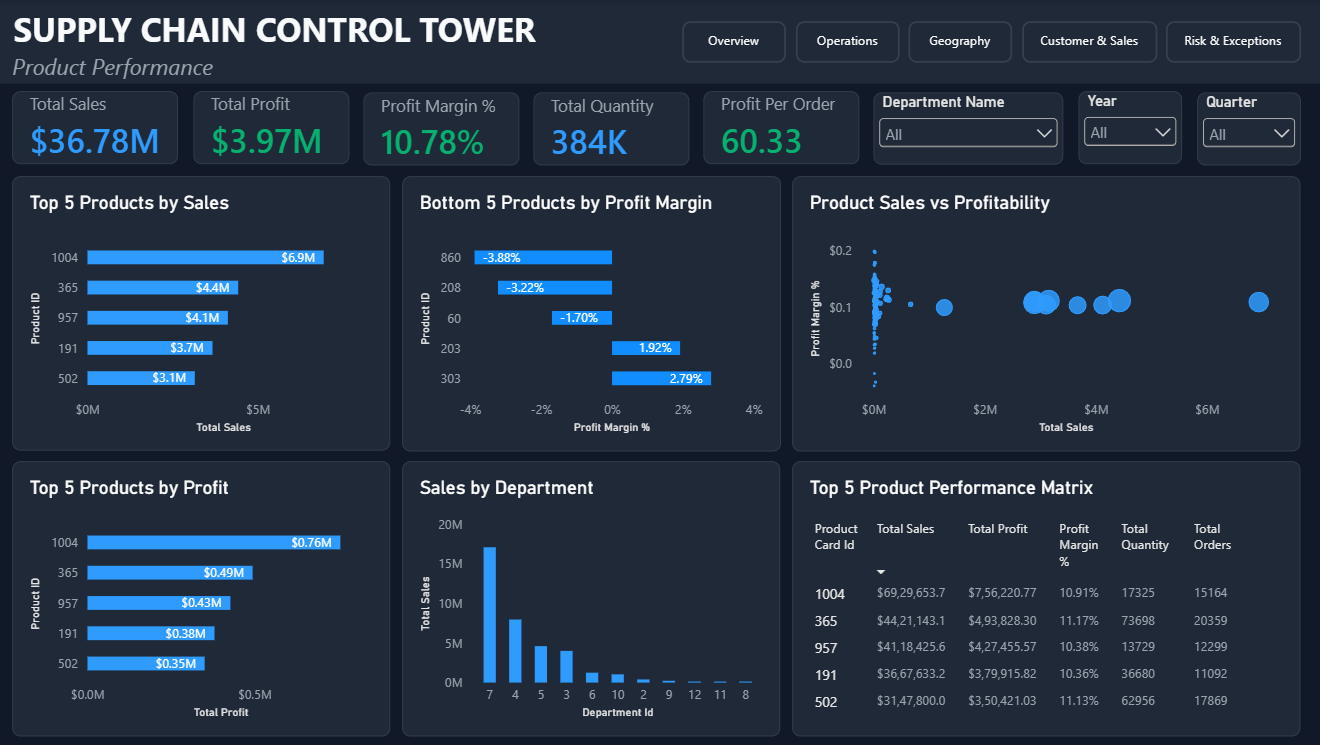

Layout of this report page (visuals, bound fields, positions):
{"tool":"powerbi","page":{"name":"Product Performance","canvas":[1280,720],"ordinal":4},"visuals":[{"type":"group","id":"g1","title":"Group 2","box":[0,0,1920.7,80.8],"z":0},{"type":"shape","box":[0,0,1920.7,80.8],"z":0,"group":"g1"},{"type":"textbox","box":[15.7,49.5,599.6,31.4],"z":1000,"group":"g1"},{"type":"clusteredBarChart","title":"Top 5 Products by Sales","fields":{"Category":["Dim_Product.Product Card Id"],"Y":["Dax_Measures.Total Sales"]},"box":[15.7,170.1,365,265],"z":1000},{"type":"textbox","box":[16.3,5.4,600,45.2],"z":2000,"group":"g1"},{"type":"cardVisual","fields":{"Data":["Dax_Measures.Total Sales"]},"box":[16.1,88.3,160,70],"z":2000},{"type":"clusteredBarChart","title":"Top 5 Products by Profit","fields":{"Y":["Dax_Measures.Total Profit"],"Category":["Dim_Product.Product Card Id"]},"box":[15.7,445.2,365,265.4],"z":3000},{"type":"scatterChart","title":"Product Sales vs Profitability","fields":{"X":["Dax_Measures.Total Sales"],"Y":["Dax_Measures.Profit Margin %"],"Size":["Dax_Measures.Total Orders"],"Series":["Dim_Product.Product Card Id"]},"box":[768.4,169.8,490.8,265.2],"z":4000},{"type":"clusteredColumnChart","title":"Sales by Department","fields":{"Category":["Dim_Product.Department Id"],"Y":["Dax_Measures.Total Sales"]},"box":[391.6,444.9,365,265.2],"z":5000},{"type":"pivotTable","title":"Top 5 Product Performance Matrix","fields":{"Rows":["Dim_Product.Product Card Id"],"Values":["Dax_Measures.Total Sales","Dax_Measures.Total Profit","Dax_Measures.Profit Margin %","Dax_Measures.Total Quantity","Dax_Measures.Total Orders"]},"box":[768.4,444.9,490.8,265.2],"z":6000},{"type":"clusteredBarChart","title":"Bottom 5 Products by Profit Margin","fields":{"Category":["Dim_Product.Product Card Id"],"Y":["Dax_Measures.Profit Margin %"]},"box":[391.6,169.8,365.6,265.2],"z":7000},{"type":"cardVisual","fields":{"Data":["Dax_Measures.Total Profit"]},"box":[190.4,88,150,70],"z":8000},{"type":"cardVisual","fields":{"Data":["Dax_Measures.Profit Margin %"]},"box":[354.7,89.2,150,70],"z":9000},{"type":"cardVisual","fields":{"Data":["Dax_Measures.Total Quantity"]},"box":[518.9,89.2,150,70],"z":10000},{"type":"cardVisual","fields":{"Data":["Dax_Measures.Average Profit Per Order"]},"box":[683.2,88.1,150,70],"z":11000},{"type":"slicer","fields":{"Values":["Dim_Date.Year"]},"box":[1045.1,88.1,100,70],"z":12000},{"type":"slicer","fields":{"Values":["Dim_Date.Quarter"]},"box":[1159.4,89.3,100,70.2],"z":13000},{"type":"slicer","fields":{"Values":["Dim_Product.Department Name"]},"box":[847.5,89.3,183.4,70],"z":14000},{"type":"actionButton","box":[662.5,20.5,100,40],"z":15000},{"type":"actionButton","box":[771.7,20.5,100,40],"z":16000},{"type":"actionButton","box":[880.8,20.5,100,40],"z":17000},{"type":"actionButton","box":[990,20.5,130,40],"z":18000},{"type":"actionButton","box":[1129.2,20.5,130,40],"z":20000}]}

Visuals, with their boxes in screenshot pixels (x1, y1, x2, y2), scaled from the page's 1280x720 canvas onto the 1320x745 screenshot:
"Group 2" group: [0, 0, 1319, 84]
shape: [0, 0, 1319, 84]
textbox: [16, 51, 635, 84]
"Top 5 Products by Sales" clusteredBarChart: [16, 176, 393, 450]
textbox: [17, 6, 636, 52]
cardVisual - Dax_Measures.Total Sales: [17, 91, 182, 164]
"Top 5 Products by Profit" clusteredBarChart: [16, 461, 393, 735]
"Product Sales vs Profitability" scatterChart: [792, 176, 1299, 450]
"Sales by Department" clusteredColumnChart: [404, 460, 780, 735]
"Top 5 Product Performance Matrix" pivotTable: [792, 460, 1299, 735]
"Bottom 5 Products by Profit Margin" clusteredBarChart: [404, 176, 781, 450]
cardVisual - Dax_Measures.Total Profit: [196, 91, 351, 163]
cardVisual - Dax_Measures.Profit Margin %: [366, 92, 520, 165]
cardVisual - Dax_Measures.Total Quantity: [535, 92, 690, 165]
cardVisual - Dax_Measures.Average Profit Per Order: [705, 91, 859, 164]
slicer - Dim_Date.Year: [1078, 91, 1181, 164]
slicer - Dim_Date.Quarter: [1196, 92, 1299, 165]
slicer - Dim_Product.Department Name: [874, 92, 1063, 165]
actionButton: [683, 21, 786, 63]
actionButton: [796, 21, 899, 63]
actionButton: [908, 21, 1011, 63]
actionButton: [1021, 21, 1155, 63]
actionButton: [1164, 21, 1299, 63]
